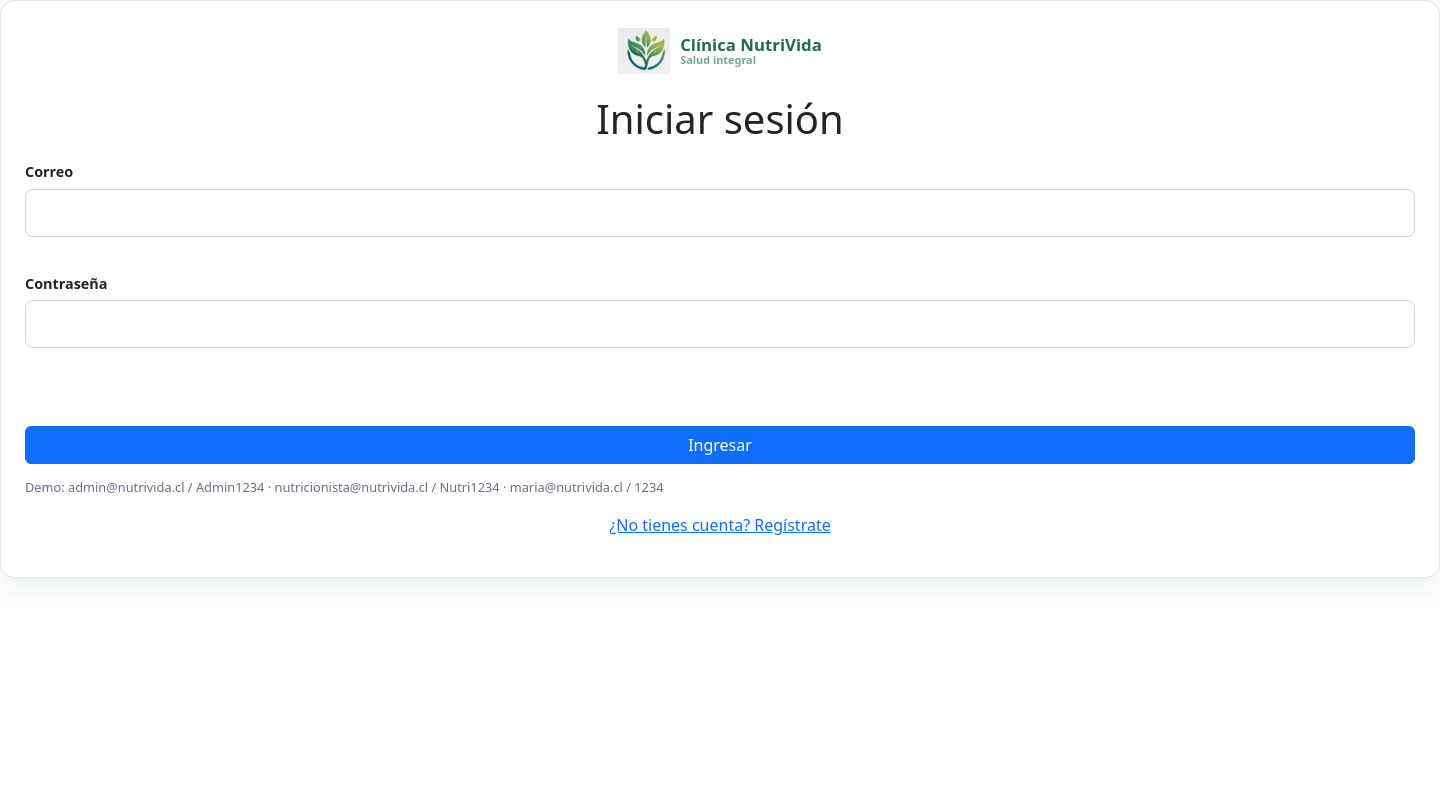
Test: FormLogin › muestra error para correo invalido
This screenshot has width=1440, height=810.
Type "no-es-correo" into the field. click: (720, 213)
box: 25,189 -> 1415,237
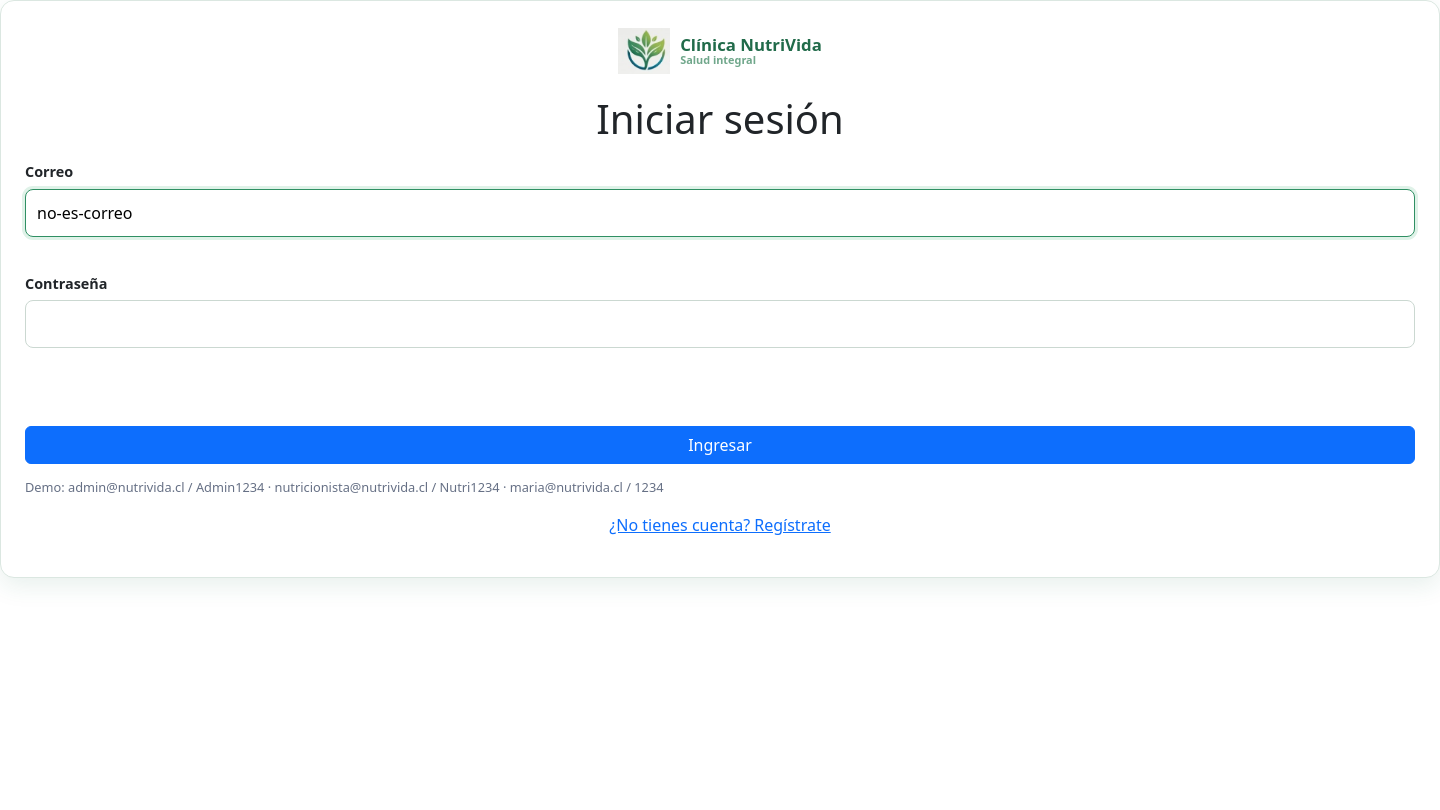
Type "1234" into the password field labelled "Contraseña". click: (720, 324)
box: 25,300 -> 1415,348
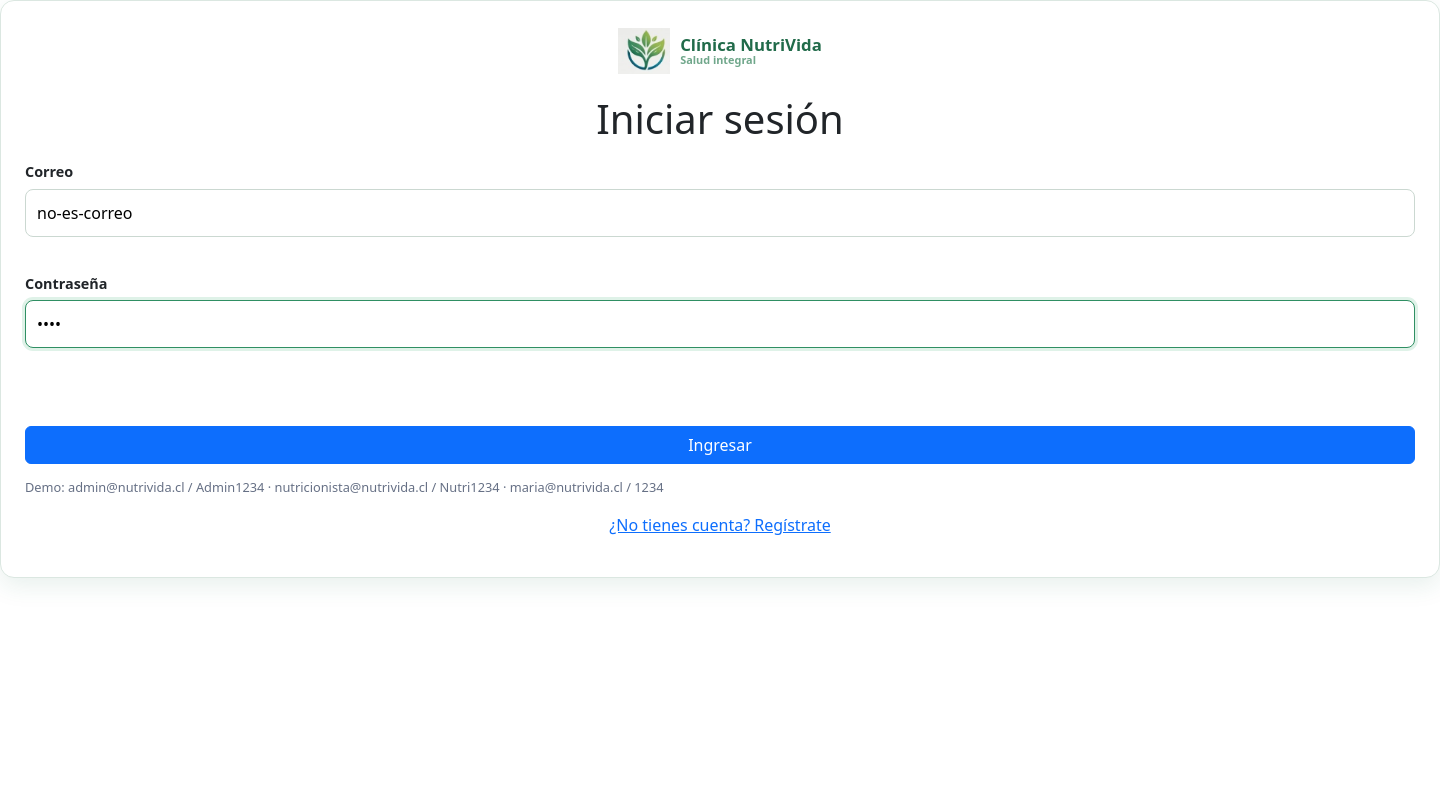
Click the button "Ingresar". click: click(720, 445)
box: 25,426 -> 1415,464
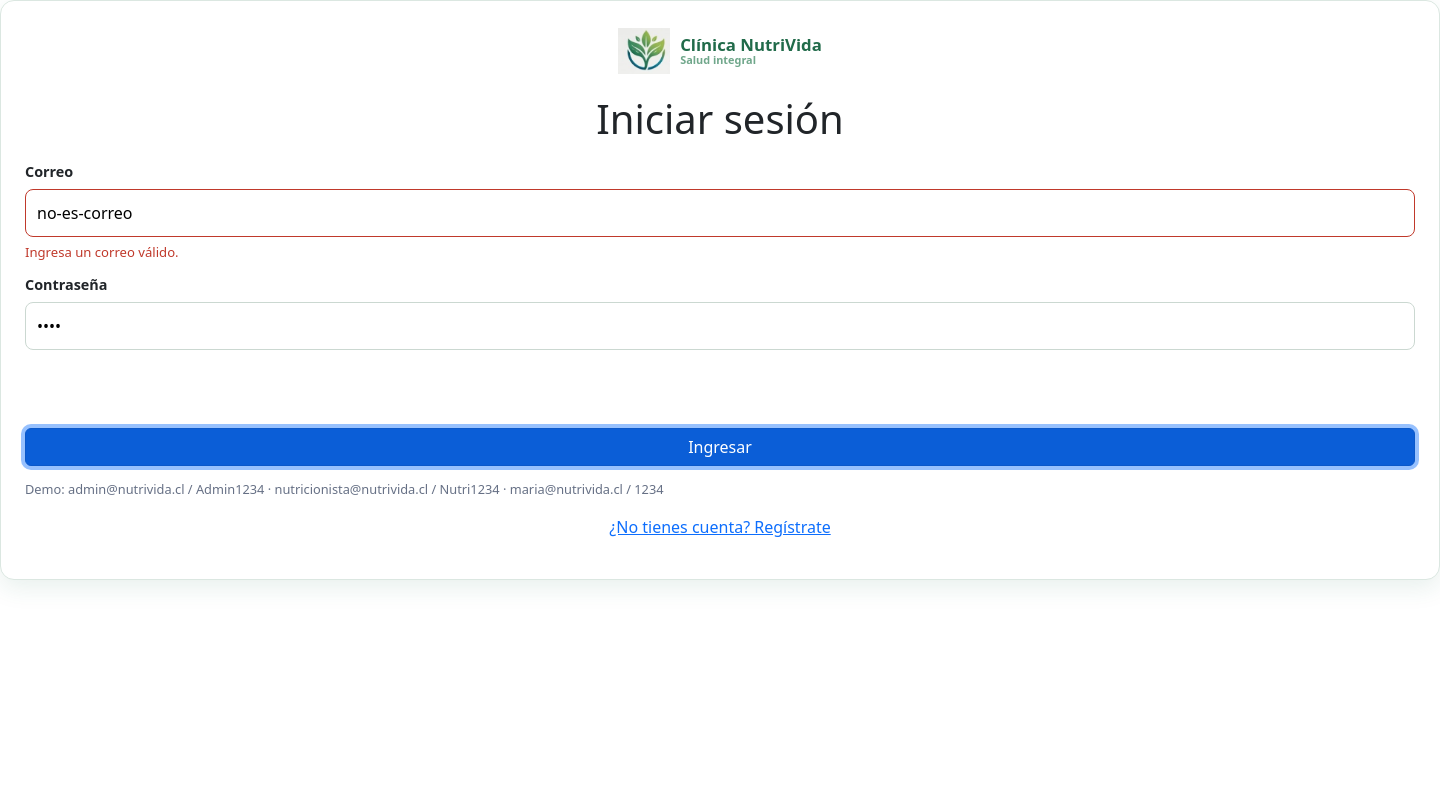
Result: the text "Ingresa un correo válido." is shown at 25,243 -> 179,261
